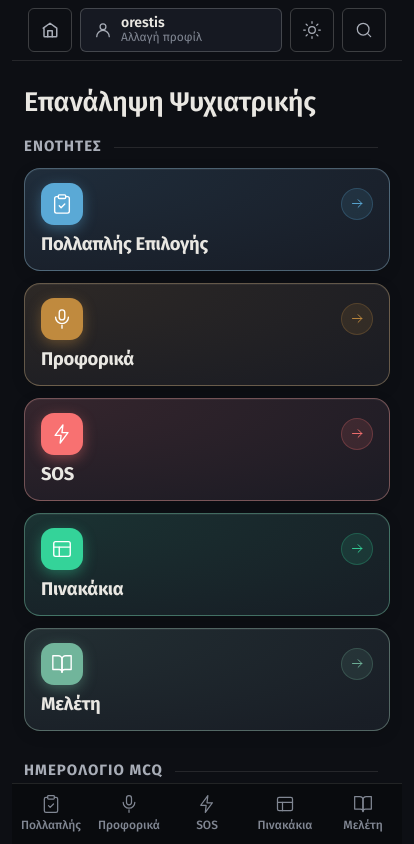
keeps explicit Switch Profile on the selector even when Orestis is remembered
Expected: the element with class "home-modules" is shown, [24,168,390,731]
Click the button with aria-label "Αλλαγή προφίλ. Τρέχον προφίλ: orestis".
click(181, 30)  # box [80,8,282,52]
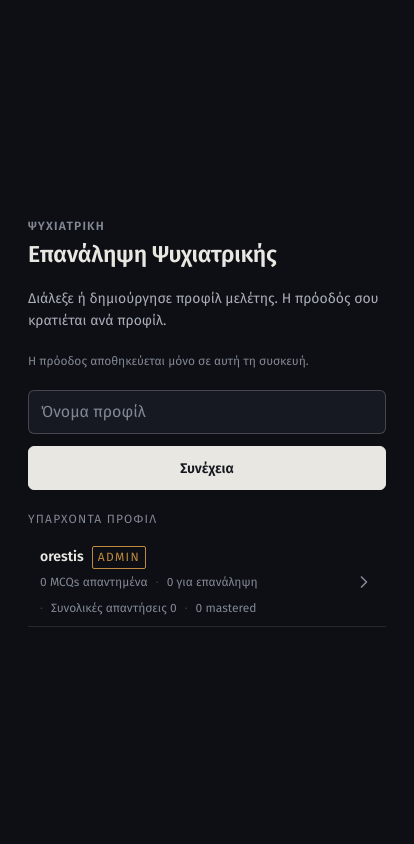
Result: the field labelled "Όνομα προφίλ" is shown at [28,390,386,434]
Result: the element with class "home-modules" is gone
